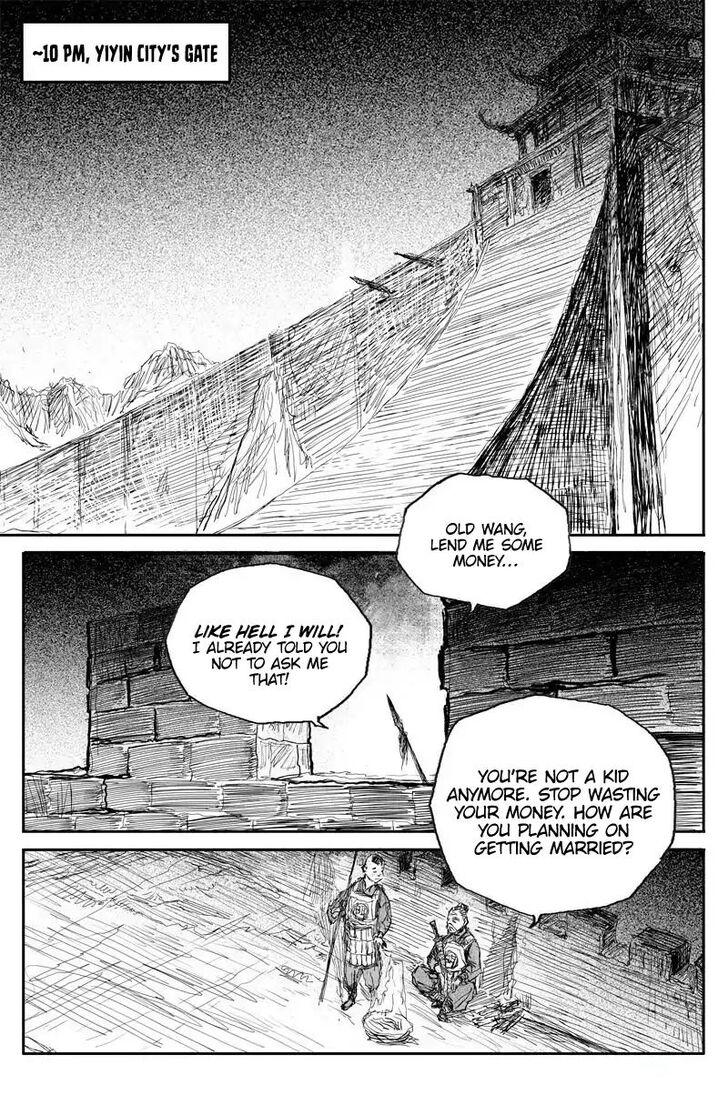Bubble: (429, 692, 677, 919), (164, 562, 373, 727), (396, 472, 573, 614), (22, 22, 231, 84)
